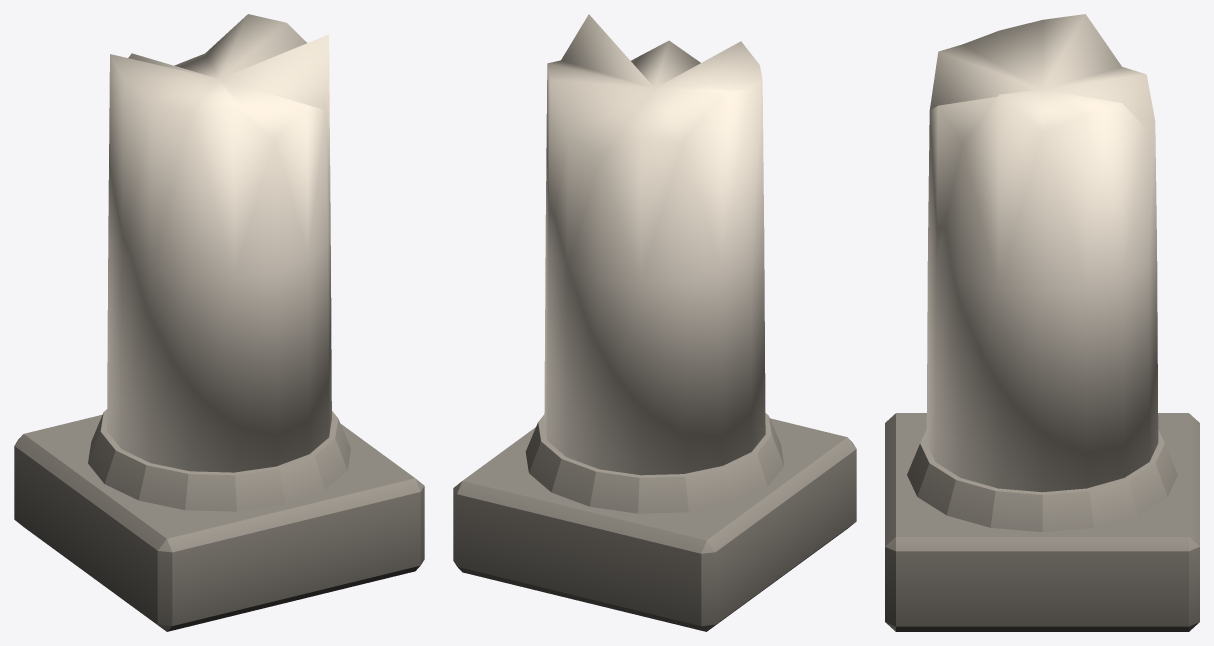
The model's file is SM_VKI_Prop_Column_Broken.fbx.
3 renders of one model, left to right at view 1: azimuth 30°, elevation 25°; view 2: azimuth 150°, elevation 25°; view 3: azimuth 270°, elevation 25°, orthographic. The views are drawn at different scales.
Parts seen in each view (by area): view 1: SM_VKI_Prop_Column_Broken.001; view 2: SM_VKI_Prop_Column_Broken.001; view 3: SM_VKI_Prop_Column_Broken.001.
Boxes of the visible parts, left/top/right/bottom form: SM_VKI_Prop_Column_Broken.001: left=14, top=14, right=424, bottom=631; SM_VKI_Prop_Column_Broken.001: left=453, top=14, right=856, bottom=631; SM_VKI_Prop_Column_Broken.001: left=885, top=14, right=1199, bottom=631.
Size of the model in its own units: 0.72 by 1.31 by 0.72.
